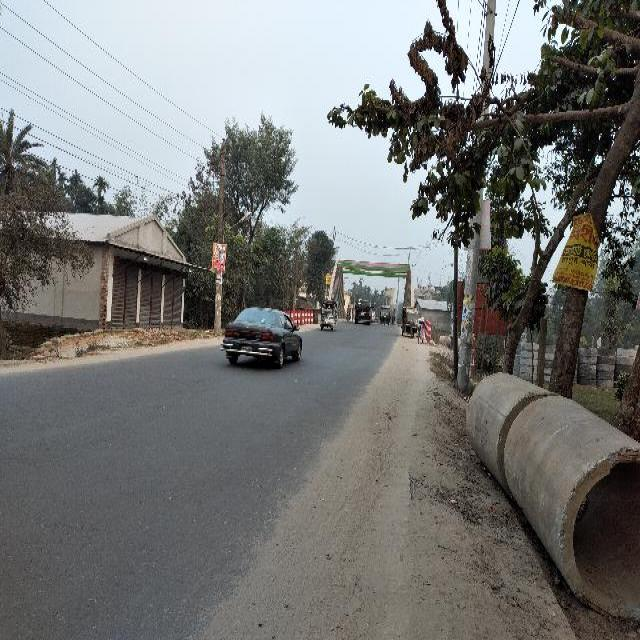bike: (418, 324, 423, 345), (347, 312, 352, 322), (392, 314, 396, 325)
vehicle: (221, 308, 304, 369), (320, 300, 338, 332), (402, 307, 418, 339), (355, 300, 372, 326), (381, 305, 391, 326), (372, 310, 376, 322)
